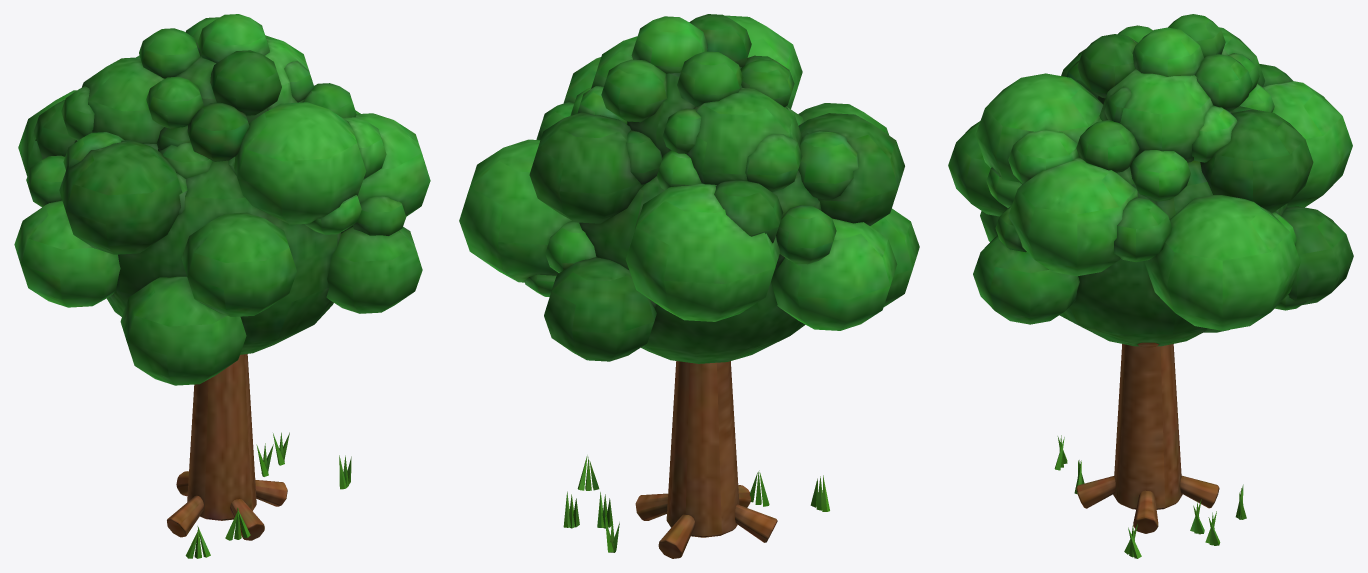
The model's file is citron_tree.glb.
3 views of the same model, side by side, from view 1: azimuth 30°, elevation 25°; view 2: azimuth 150°, elevation 25°; view 3: azimuth 270°, elevation 25° (orthographic). The views are drawn at different scales.
Parts seen in each view (by area): view 1: crown, citron_tree; view 2: crown, citron_tree; view 3: crown, citron_tree.
Boxes of the visible parts, x1,y1,x2,y2 form: crown: [14, 14, 430, 385]; citron_tree: [167, 354, 351, 558]; crown: [459, 14, 919, 363]; citron_tree: [563, 361, 829, 558]; crown: [948, 14, 1353, 346]; citron_tree: [1054, 342, 1246, 558].
Bounding box in the file's own units: 1.11 × 1.38 × 1.04.
1 material, 1 textured.
